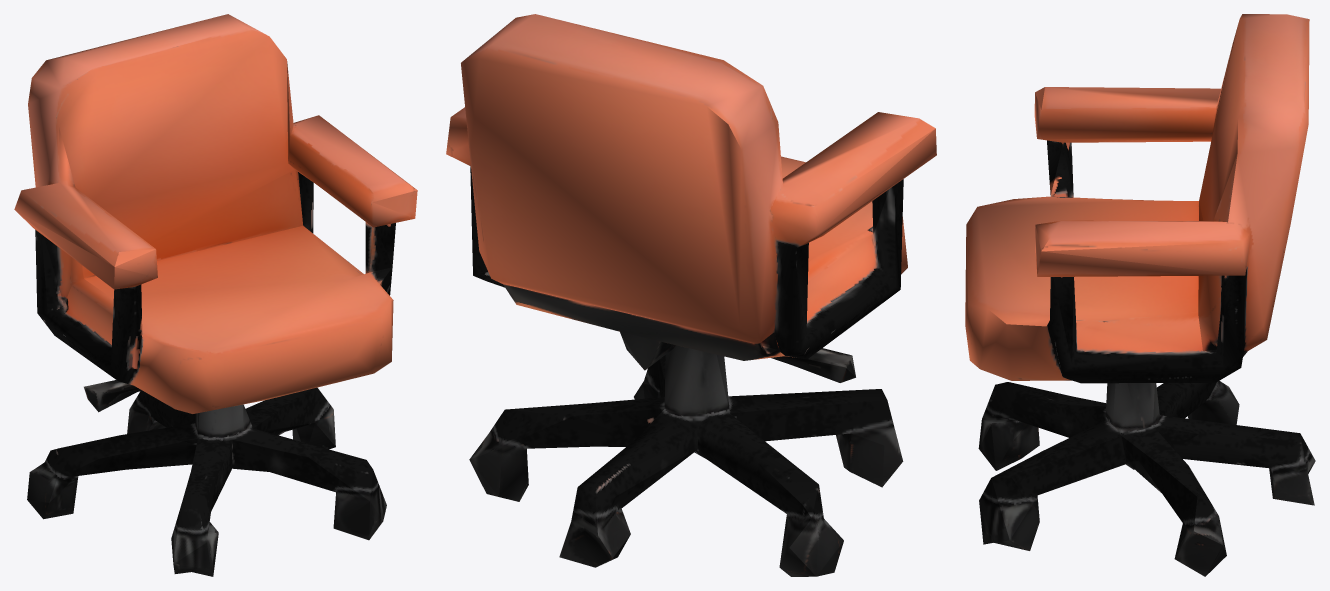
File: orange-office-chair.glb
3 views of the same model, side by side, from view 1: azimuth 30°, elevation 25°; view 2: azimuth 150°, elevation 25°; view 3: azimuth 270°, elevation 25° (orthographic). The views are drawn at different scales.
Parts seen in each view (by area): view 1: geometry_0.001; view 2: geometry_0.001; view 3: geometry_0.001.
Part boxes in pixels (bbox=[...]): geometry_0.001: bbox=[14, 14, 417, 576]; geometry_0.001: bbox=[446, 14, 936, 576]; geometry_0.001: bbox=[965, 14, 1315, 576].
Size of the model in its own units: 0.7541 by 1 by 0.6987.
1 material, 1 textured.
